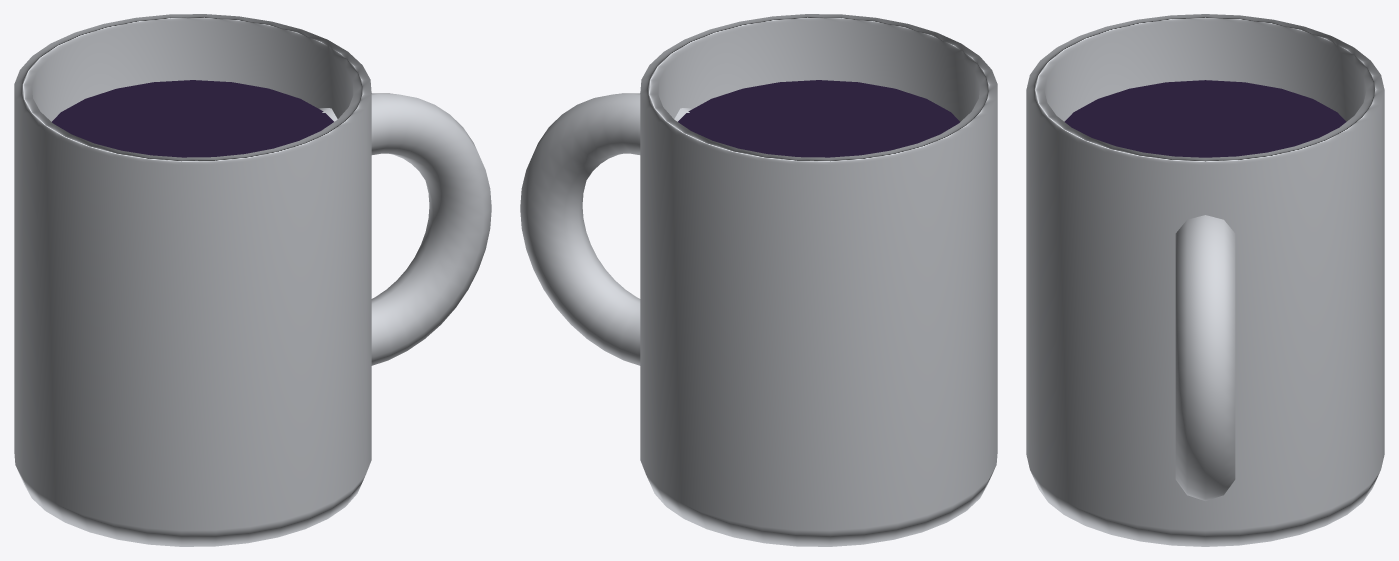
The model's file is mug.glb.
3 views of the same model, side by side, from view 1: azimuth 30°, elevation 25°; view 2: azimuth 150°, elevation 25°; view 3: azimuth 270°, elevation 25° (orthographic).
Parts seen in each view (by area): view 1: cup, handle, coffee; view 2: cup, handle, coffee; view 3: cup, handle, coffee.
Boxes of the visible parts, x1=… form: cup: x1=14, y1=14, x2=371, y2=546; handle: x1=319, y1=93, x2=491, y2=365; coffee: x1=52, y1=80, x2=333, y2=157; cup: x1=640, y1=14, x2=997, y2=546; handle: x1=520, y1=93, x2=692, y2=365; coffee: x1=678, y1=80, x2=959, y2=157; cup: x1=1026, y1=14, x2=1384, y2=546; handle: x1=1175, y1=215, x2=1235, y2=500; coffee: x1=1064, y1=80, x2=1346, y2=157.
Bounding box in the file's own units: 0.116 × 0.095 × 0.08.
